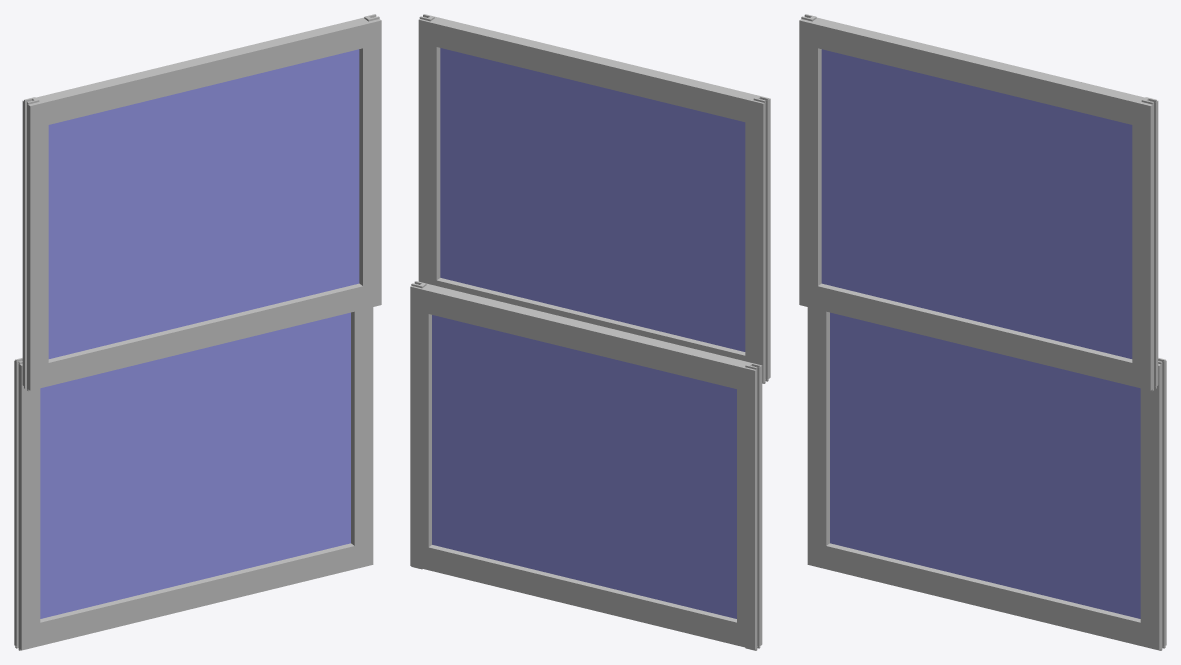
The model's file is Jendela.fbx.
3 renders of one model, left to right at view 1: azimuth 30°, elevation 25°; view 2: azimuth 150°, elevation 25°; view 3: azimuth 330°, elevation 25°, orthographic.
Parts seen in each view (by area): view 1: Window.R, Window.L; view 2: Window.L, Window.R; view 3: Window.R, Window.L.
Boxes of the visible parts, box(x1,y1,x2,y2) form: Window.R: box(22, 14, 381, 390); Window.L: box(14, 307, 373, 650); Window.L: box(410, 281, 762, 650); Window.R: box(418, 14, 770, 383); Window.R: box(799, 14, 1158, 390); Window.L: box(807, 307, 1166, 650).
Bounding box in the file's own units: 24.15 × 36.4 × 1.88.
